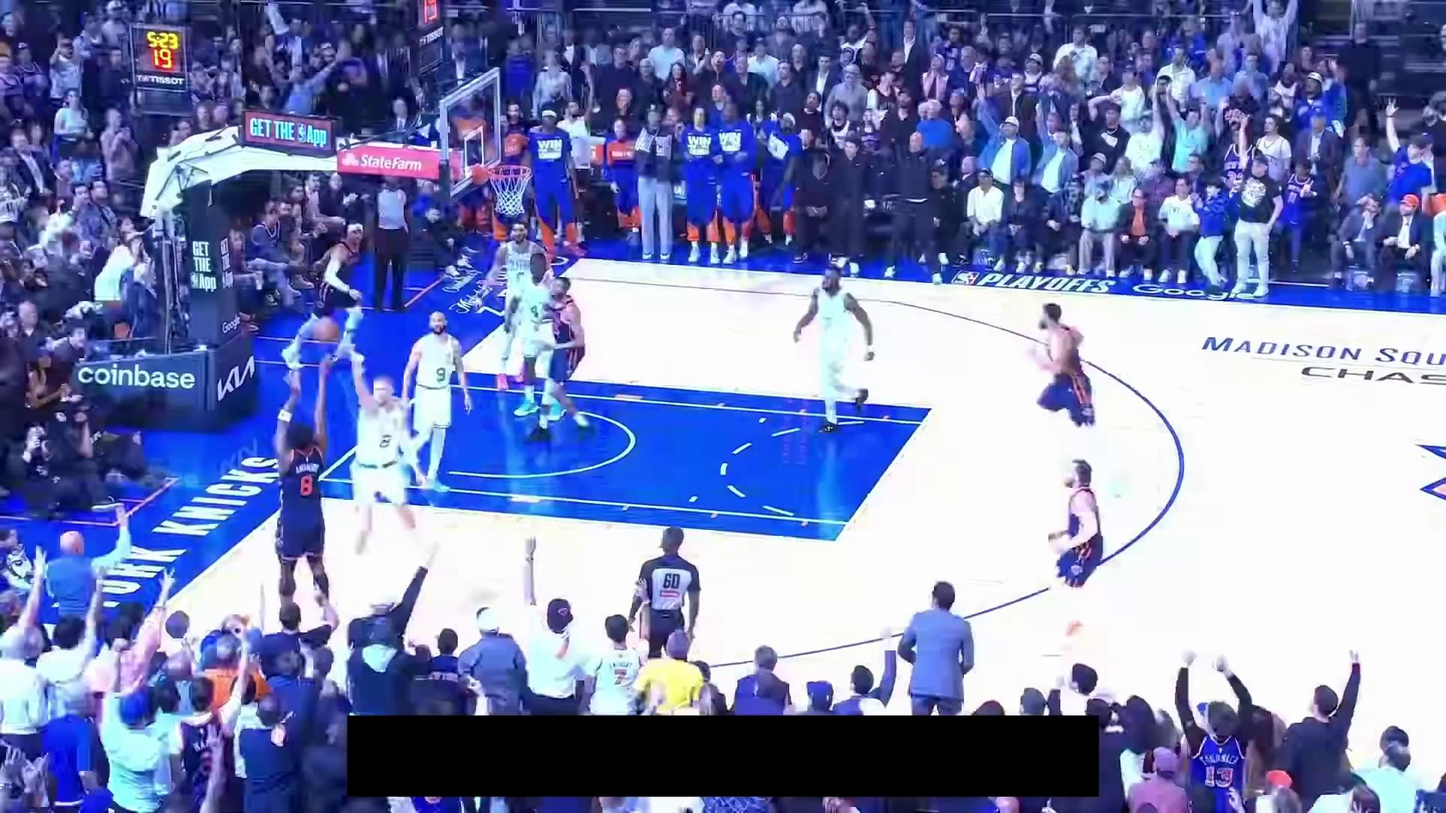ball: (310, 314, 340, 346)
number: (297, 472, 315, 499), (434, 365, 446, 385), (379, 433, 392, 449), (529, 303, 539, 318)
player: (1025, 297, 1124, 497), (793, 264, 878, 435), (400, 310, 477, 496), (281, 218, 367, 372), (524, 273, 594, 444), (1044, 457, 1106, 647), (483, 219, 548, 392), (503, 250, 568, 423)
player-jump-shot: (272, 349, 344, 635)
player-shot-block: (348, 348, 433, 559)
referee: (624, 524, 705, 656), (362, 176, 413, 312)
rim: (489, 164, 535, 180)
